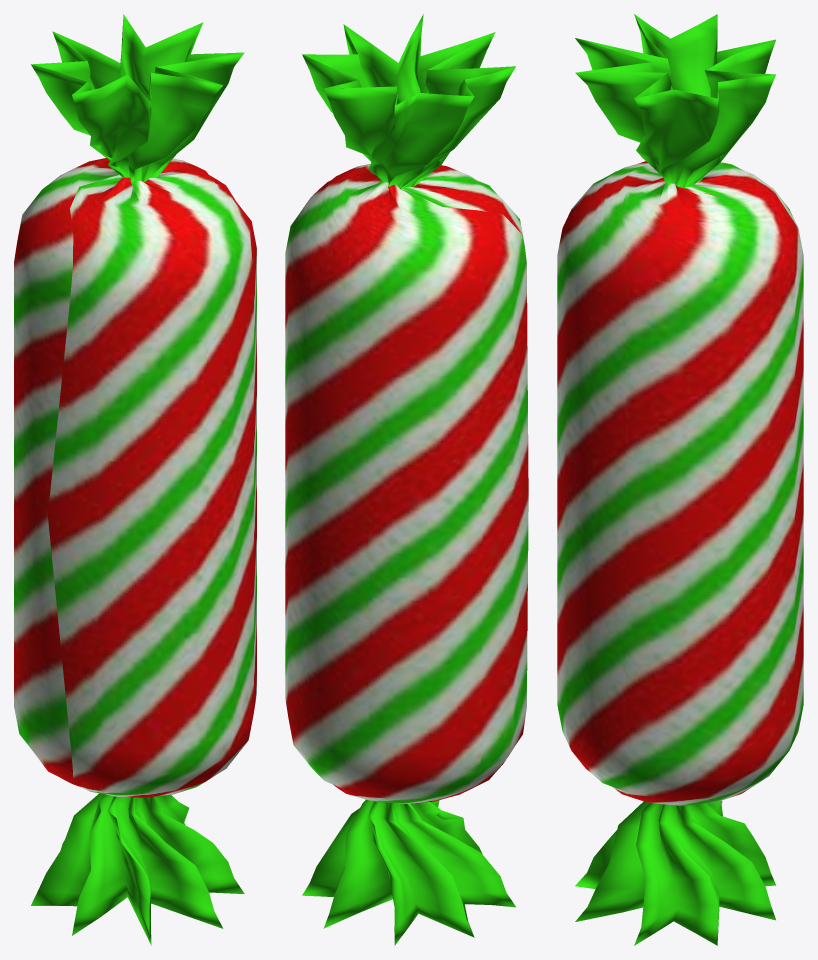
File: Candy Short.fbx
3 renders of one model, left to right at view 1: azimuth 30°, elevation 25°; view 2: azimuth 150°, elevation 25°; view 3: azimuth 270°, elevation 25°, orthographic.
Visible parts, largest first — view 1: Candy Short; view 2: Candy Short; view 3: Candy Short.
Part boxes in pixels (bbox=[...]): Candy Short: bbox=[14, 14, 256, 945]; Candy Short: bbox=[285, 14, 528, 945]; Candy Short: bbox=[557, 14, 803, 945].
Size of the model in its own units: 65.7 by 249 by 65.45.
